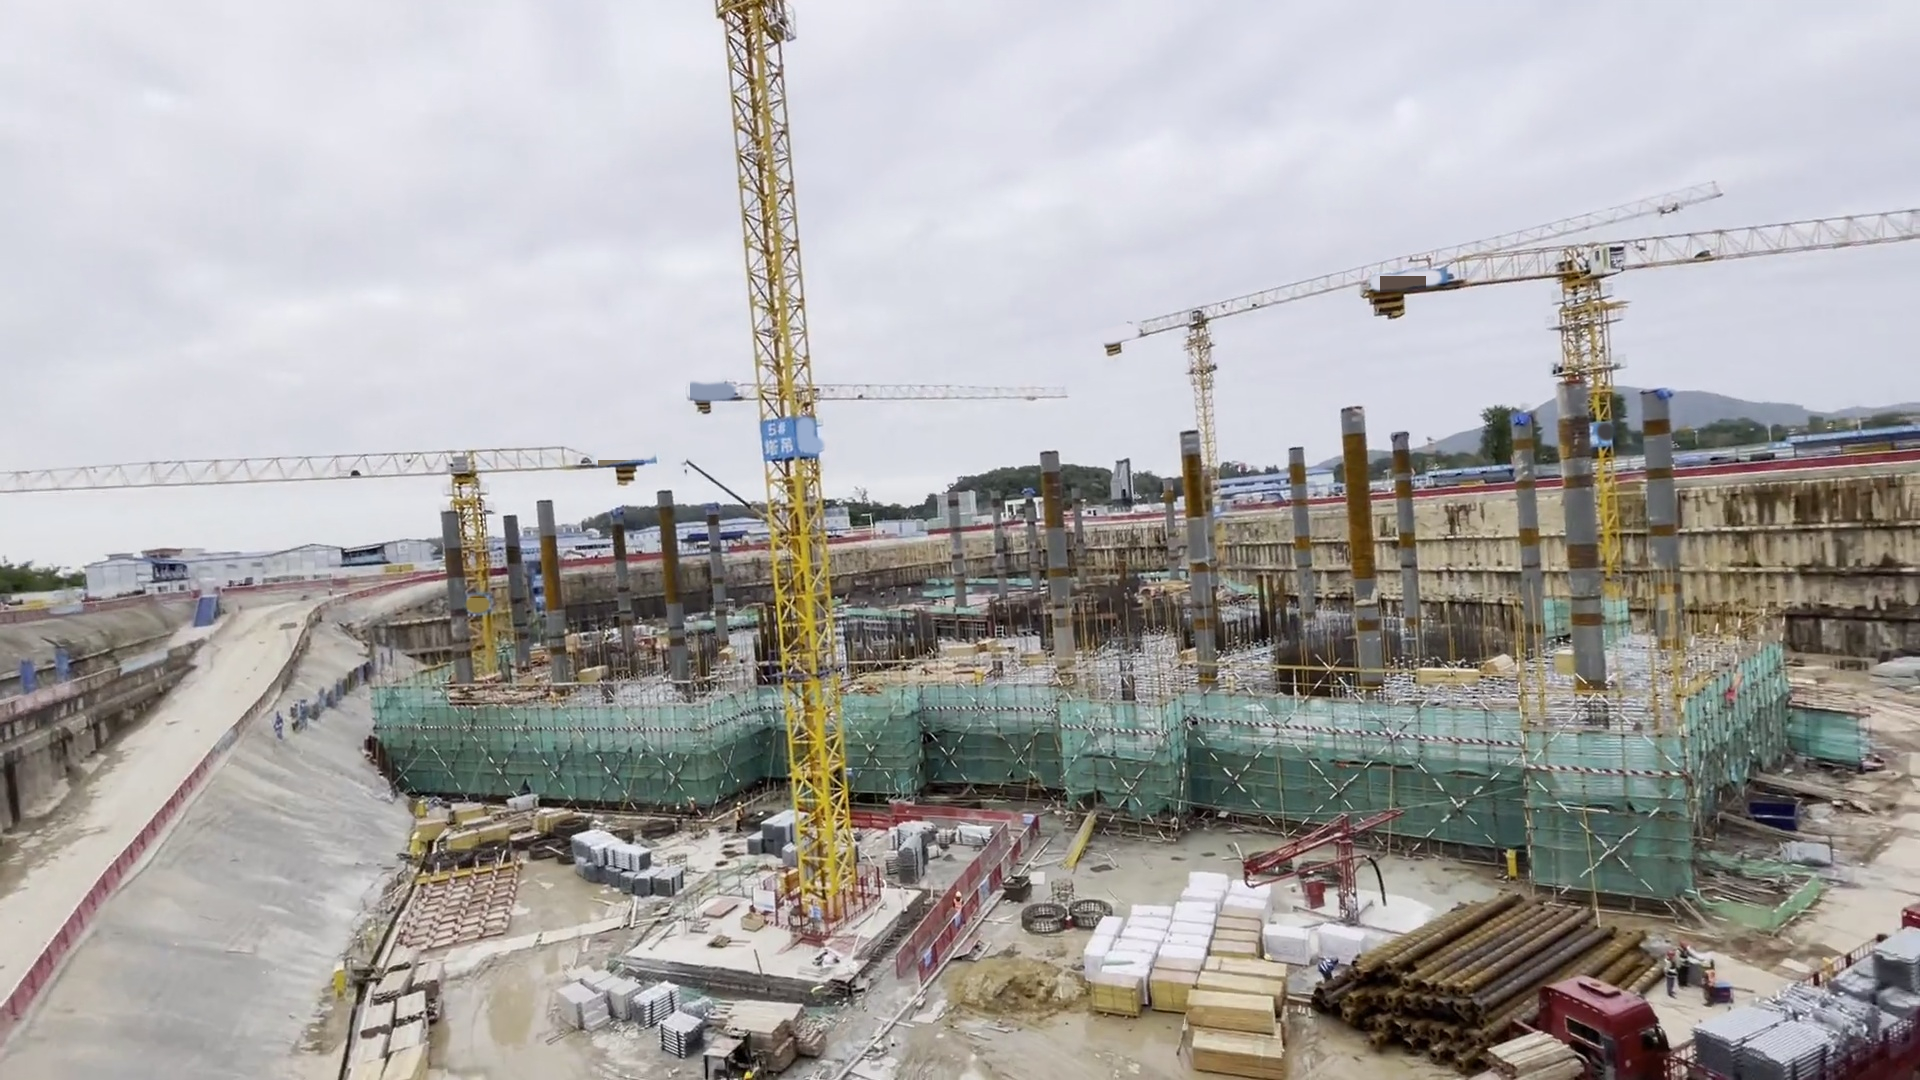board: (1148, 954, 1197, 1010), (1210, 907, 1260, 956), (1089, 973, 1143, 1018)
helmet: (1330, 957, 1340, 965), (953, 891, 963, 897), (690, 797, 696, 801), (737, 802, 742, 806)
person: (1319, 956, 1342, 985), (733, 800, 745, 831), (951, 891, 963, 920), (688, 797, 699, 823)
vest: (951, 898, 962, 910), (1320, 962, 1332, 973)
wood: (1190, 963, 1292, 1074)
